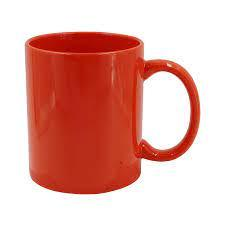Mug: (12, 23, 212, 203)
